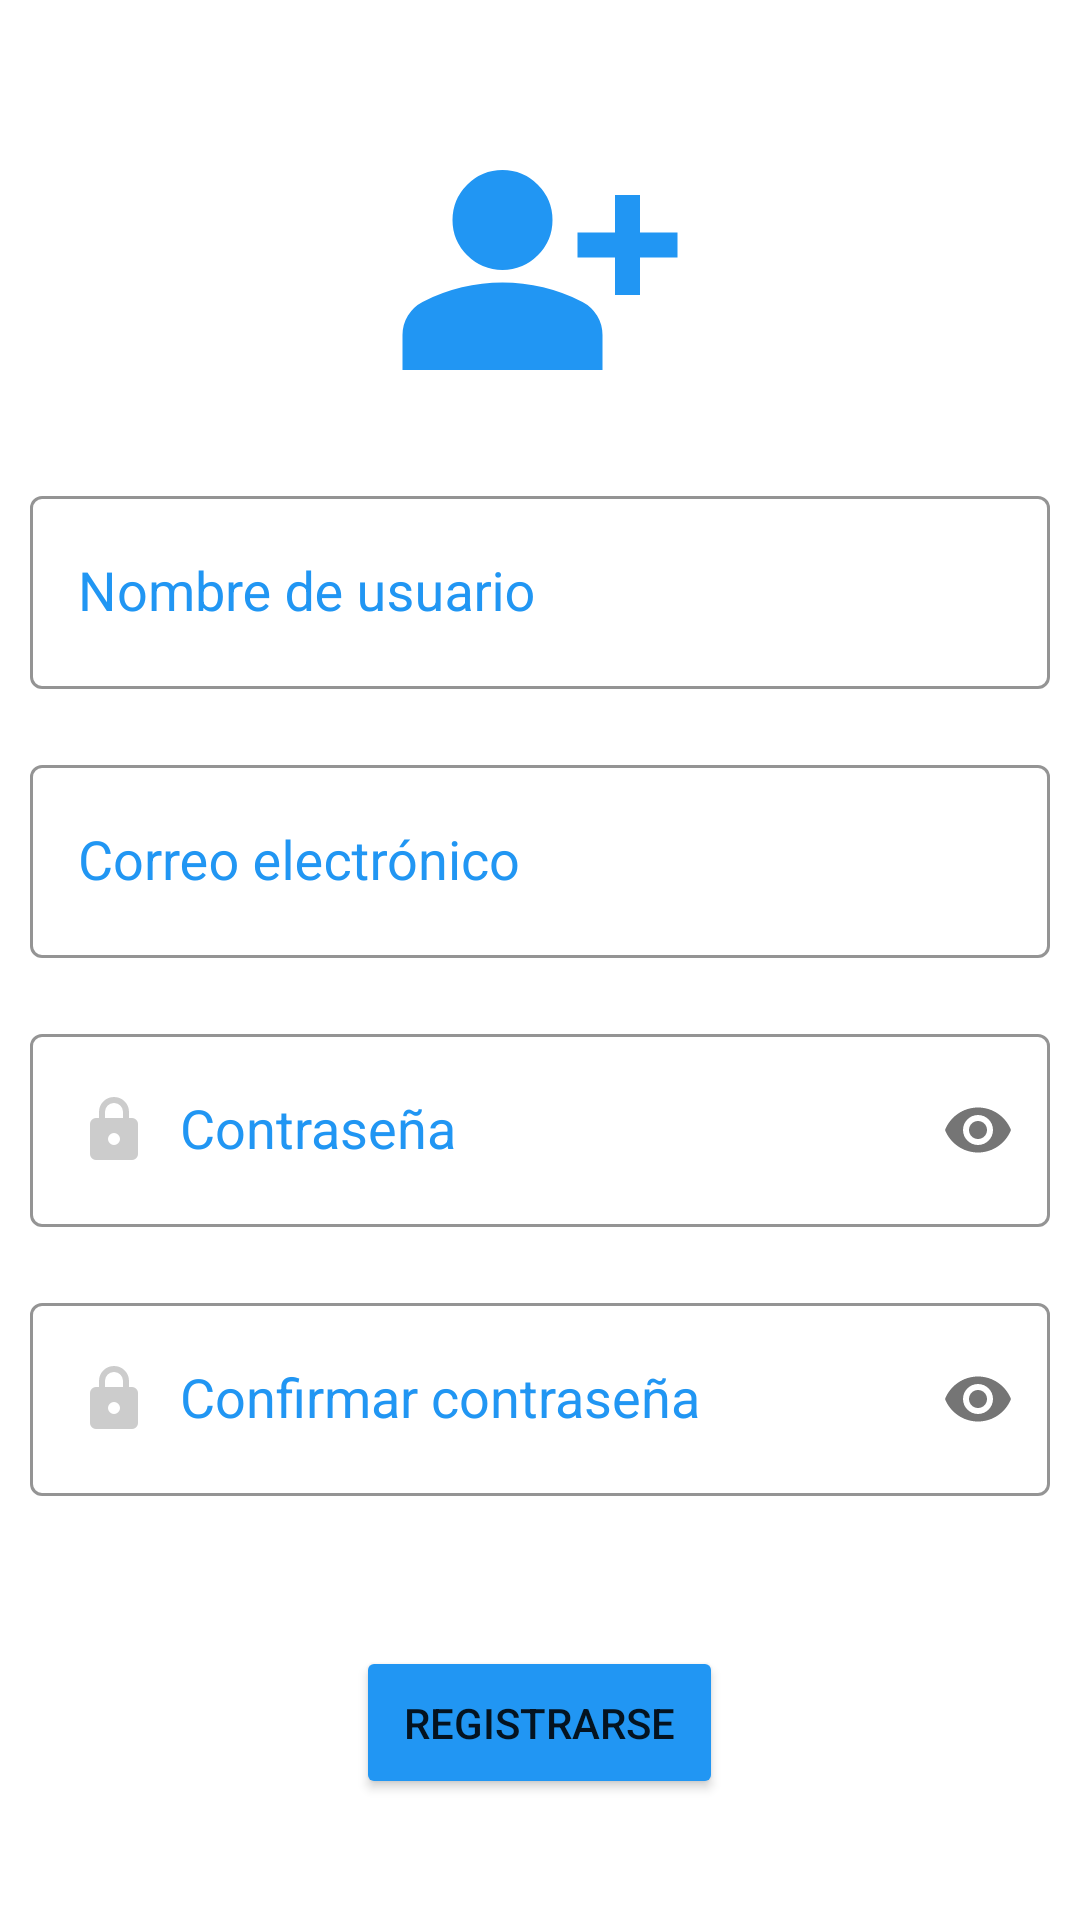

Locate icon controls on the screen. Image size 1080×1920, boxes as (x1, y1, x2, y2).
registro: (402, 170, 678, 370)
